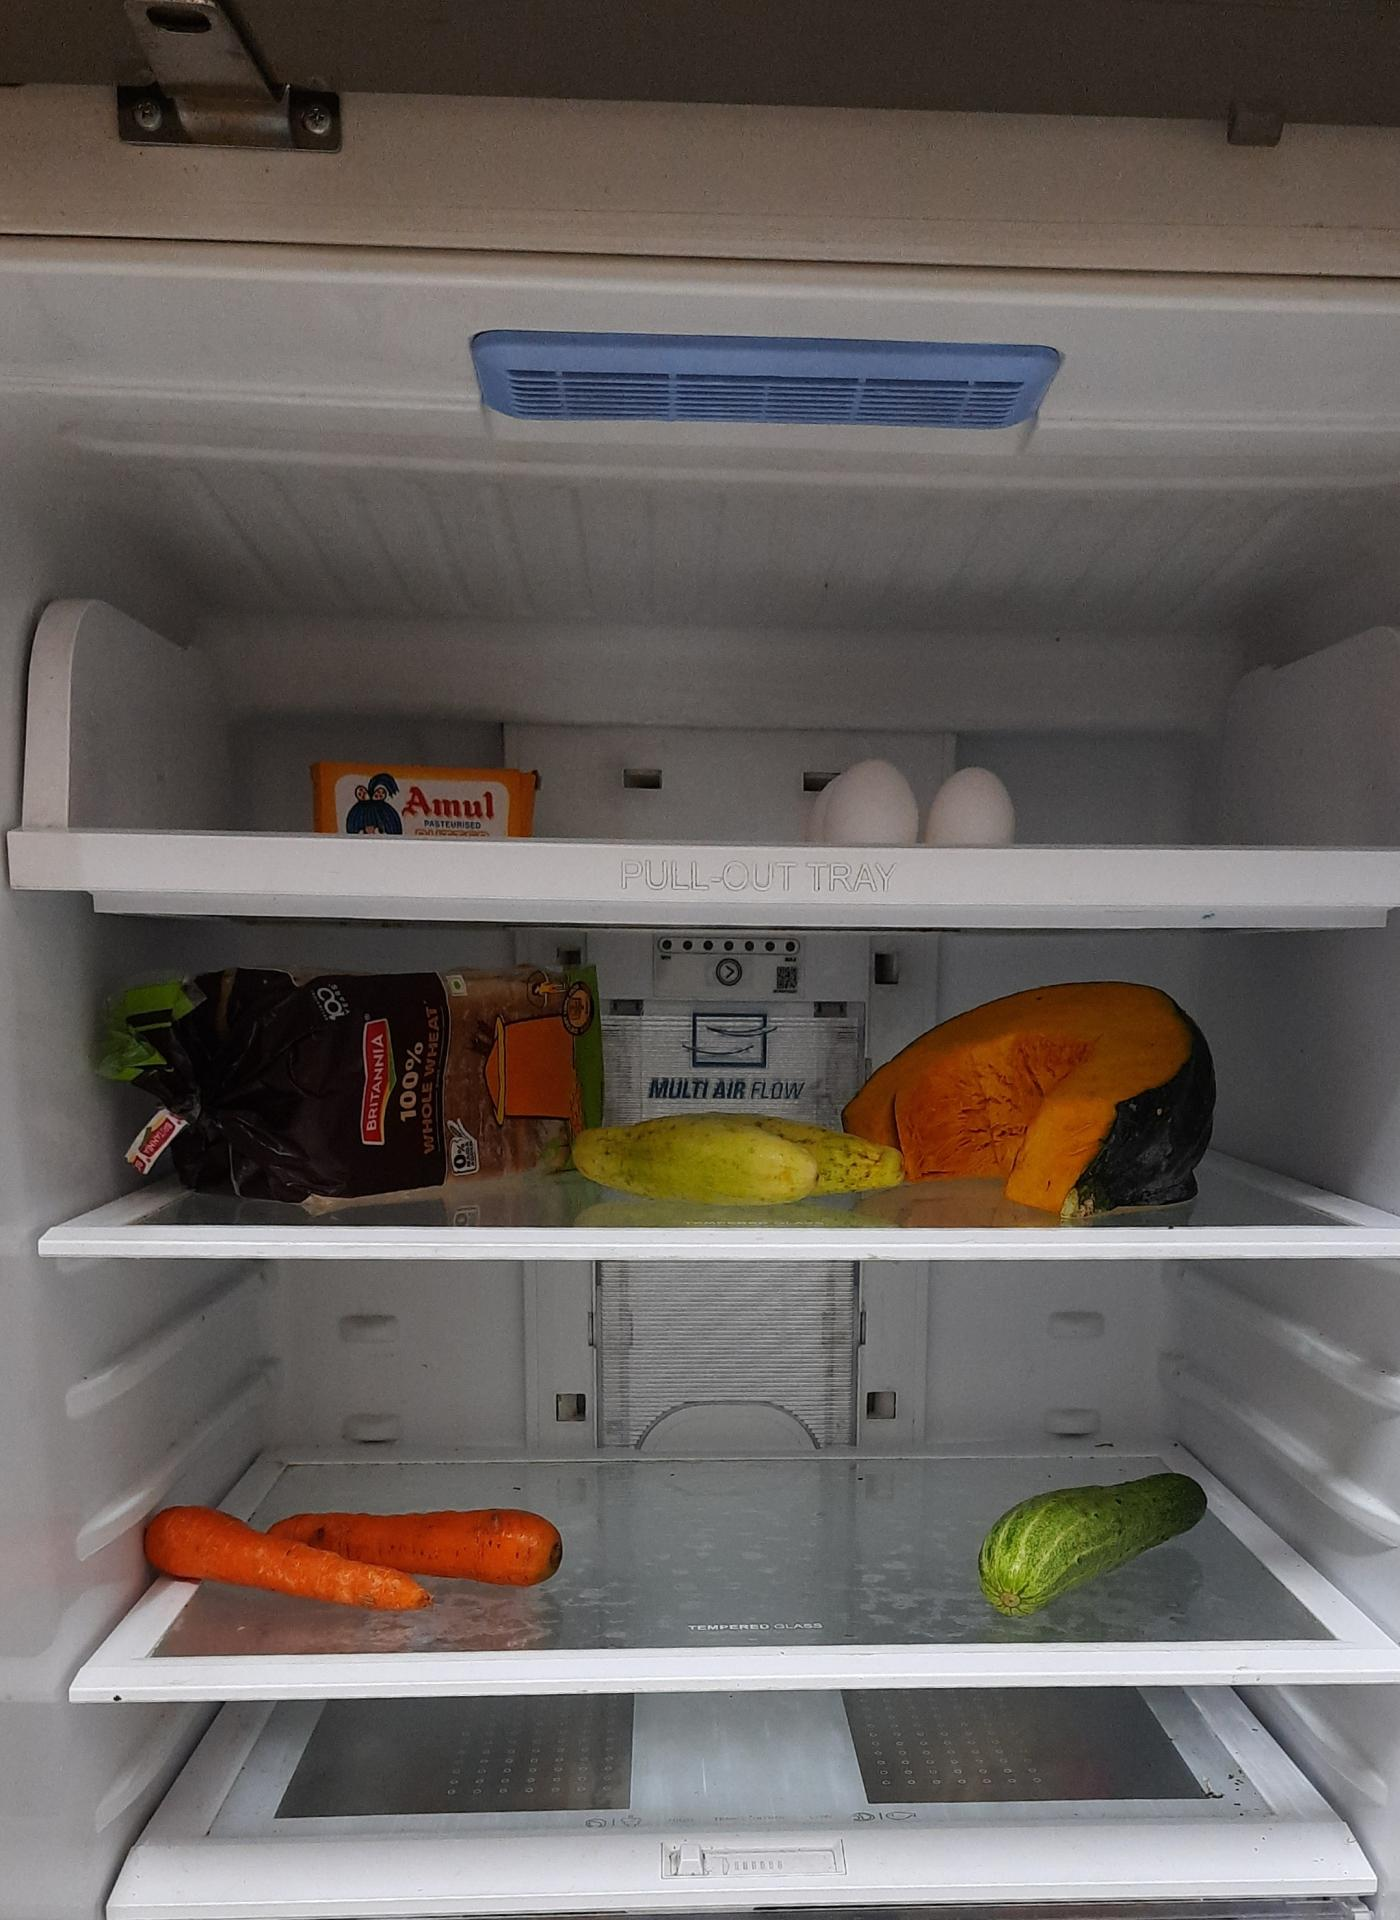bread: (116, 959, 604, 1204)
butter: (316, 766, 546, 847)
carrots: (149, 1498, 571, 1604)
cucumber: (977, 1476, 1212, 1626), (574, 1115, 896, 1204)
egg: (808, 763, 1020, 854)
pumpkin: (841, 978, 1221, 1212)
